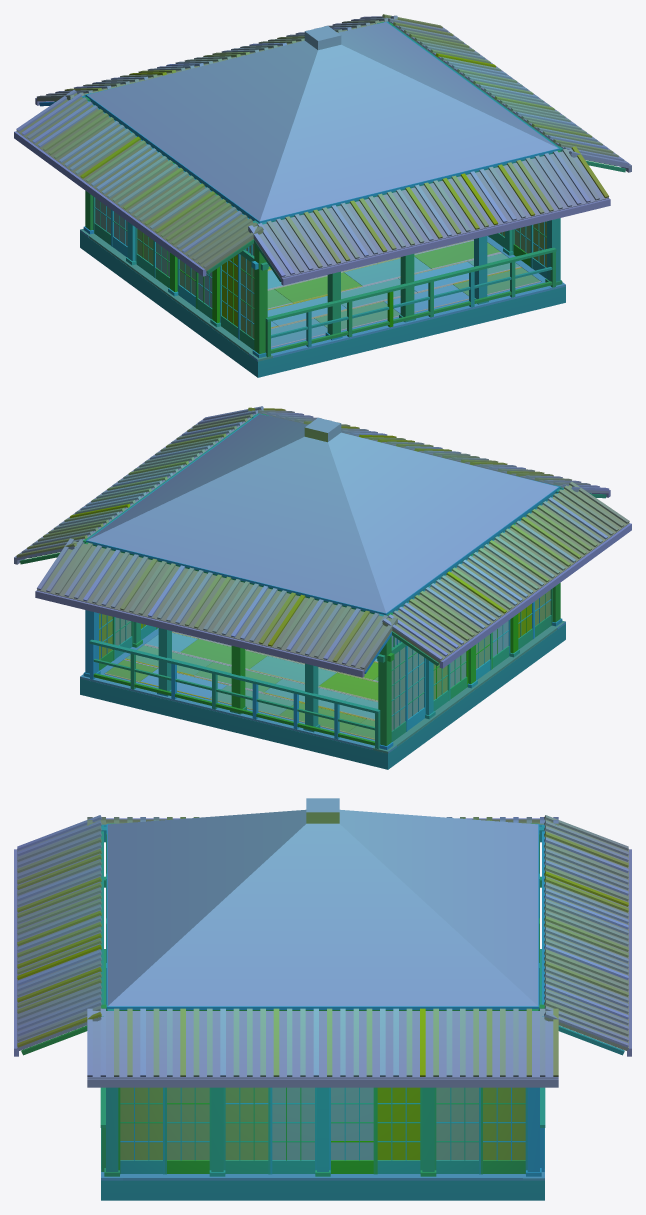
The model's file is B_room_c.glb.
3 renders of one model, top to bottom at view 1: azimuth 30°, elevation 25°; view 2: azimuth 150°, elevation 25°; view 3: azimuth 270°, elevation 25°, orthographic. The views are drawn at different scales.
Parts seen in each view (by area): view 1: B_room_c; view 2: B_room_c; view 3: B_room_c.
Boxes of the visible parts, <box> form: B_room_c: <box>14,14,631,377</box>; B_room_c: <box>14,406,631,769</box>; B_room_c: <box>14,798,631,1200</box>.
Size of the model in its own units: 11.14 by 6 by 11.14.
